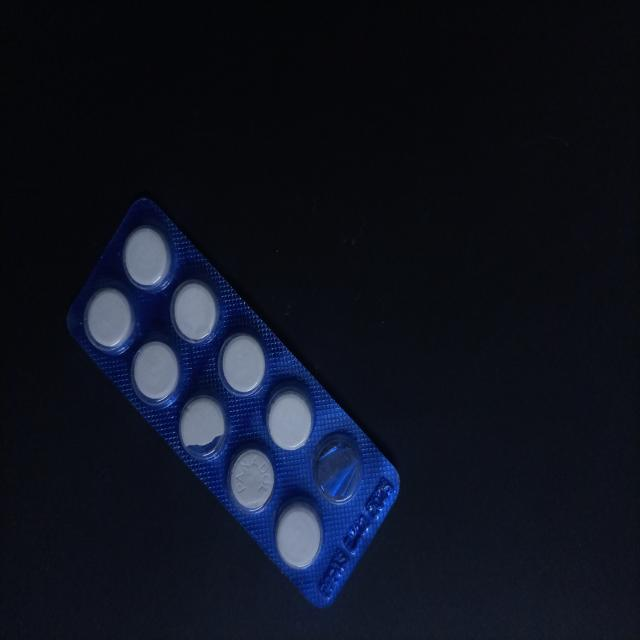defect: (311, 428, 366, 508), (177, 393, 231, 465)
